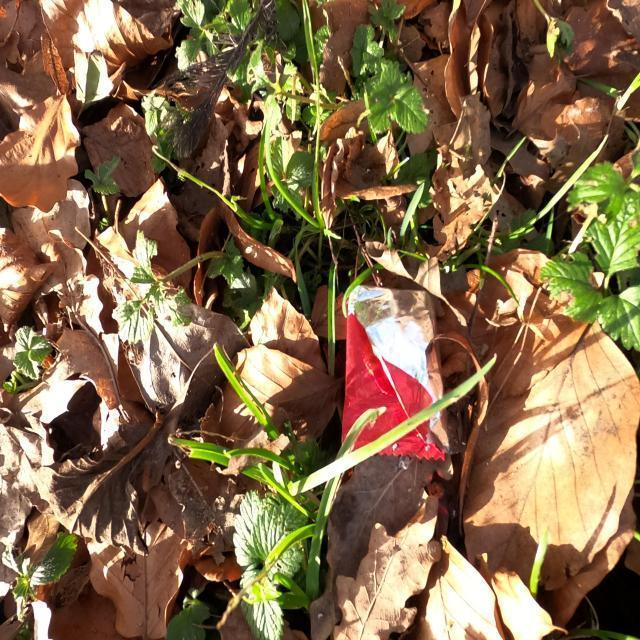Plastic: (346, 276, 448, 460)
